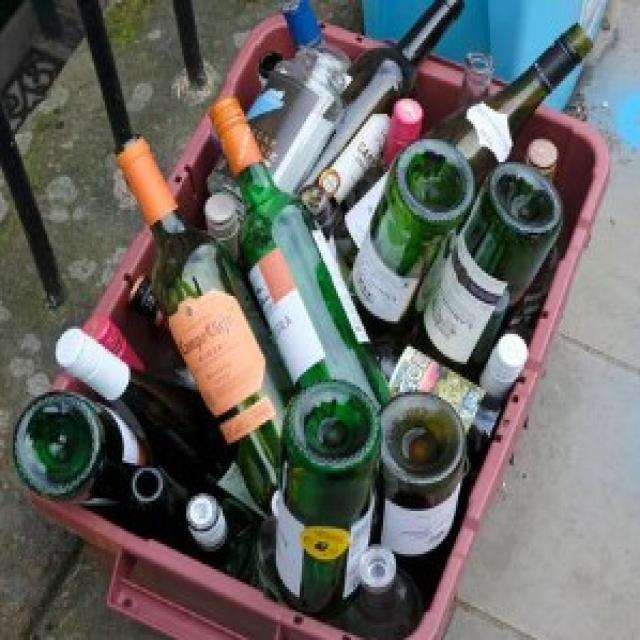electronic: (15, 10, 598, 632)
